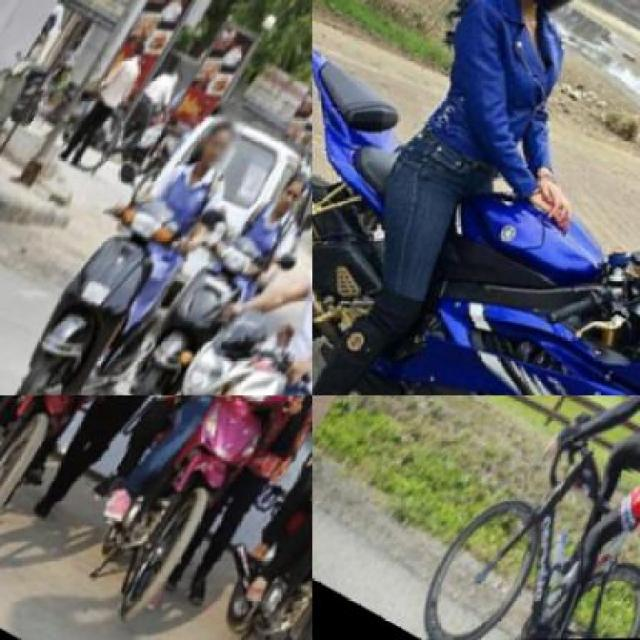With Helmet: (461, 0, 638, 32)
Without Helmet: (190, 100, 258, 175), (271, 154, 311, 221)
